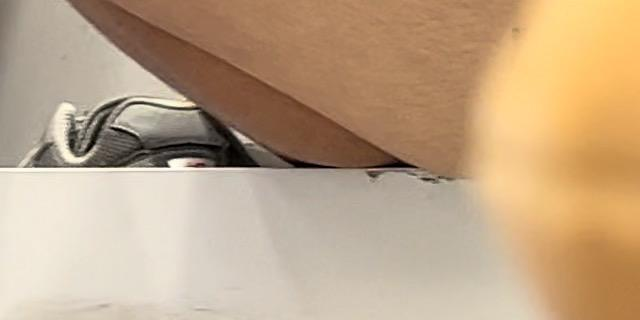burger: (436, 0, 640, 320)
